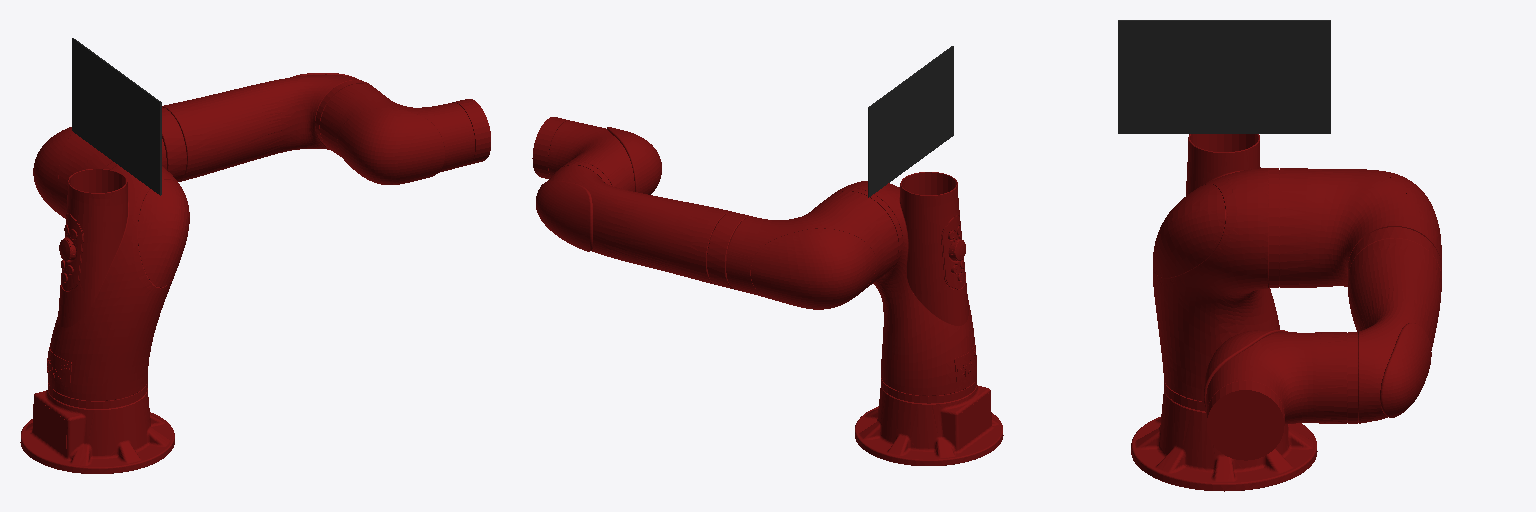
URDF robot description (sawyer):
<?xml version="1.0" ?>
<!-- =================================================================================== -->
<!-- |    This document was autogenerated by xacro from ./urdf.xacro                   | -->
<!-- |    EDITING THIS FILE BY HAND IS NOT RECOMMENDED                                 | -->
<!-- =================================================================================== -->
<robot name="sawyer" xmlns:xacro="http://www.ros.org/wiki/xacro">
  <material name="black">
    <color rgba="0 0 0 1"/>
  </material>
  <material name="darkgray">
    <color rgba=".2 .2 .2 1"/>
  </material>
  <material name="darkred">
    <color rgba=".5 .1 .1 1"/>
  </material>
  <material name="sawyer_red">
    <color rgba=".5 .1 .1 1"/>
  </material>
  <material name="sawyer_gray">
    <color rgba="0.75294 0.75294 0.75294 1"/>
  </material>
  <link name="base"/>
  <link name="torso">
    <visual>
      <origin rpy="0 0 0" xyz="0 0 0"/>
      <geometry>
        <box size="0 0 0"/>
      </geometry>
      <material name="darkgray">
        <color rgba=".2 .2 .2 1"/>
      </material>
    </visual>
    <inertial>
      <origin rpy="0 0 0" xyz="0.000000 0.000000 0.000000"/>
      <mass value="0.0001"/>
      <inertia ixx="1e-08" ixy="0" ixz="0" iyy="1e-08" iyz="0" izz="1e-08"/>
    </inertial>
  </link>
  <link name="pedestal">
    <visual>
      <origin rpy="1.57079632679 0 -1.57079632679" xyz="0.26 0.345 -0.91488"/>
      <geometry>
        <mesh filename="package://sawyer_description/meshes/sawyer_pv/pedestal.STL"/>
      </geometry>
      <material name="darkgray"/>
    </visual>
    <collision>
      <origin rpy="0 0 0" xyz="0 0 -0.30"/>
      <geometry>
        <cylinder length="0.62" radius="0.18"/>
      </geometry>
    </collision>
    <inertial>
      <origin rpy="0 0 0" xyz="0 0 0"/>
      <mass value="60.86397744"/>
      <inertia ixx="5.0635929" ixy="0.00103417" ixz="0.80199628" iyy="6.08689388" iyz="0.00105311" izz="4.96191932"/>
    </inertial>
  </link>
  <link name="controller_box">
    <collision>
      <origin rpy="0 0 0" xyz="-0.325 0 -0.38"/>
      <geometry>
        <box size="0.22 0.4 0.53"/>
      </geometry>
    </collision>
  </link>
  <joint name="controller_box_fixed" type="fixed">
    <origin rpy="0 0 0" xyz="0.0 0.0 0.0"/>
    <parent link="base"/>
    <child link="controller_box"/>
  </joint>
  <link name="pedestal_feet">
    <collision>
      <origin rpy="0 0 0" xyz="-0.1225 0 -0.758"/>
      <geometry>
        <box size="0.77 0.7 0.31"/>
      </geometry>
    </collision>
  </link>
  <joint name="pedestal_feet_fixed" type="fixed">
    <origin rpy="0 0 0" xyz="0.0 0.0 0.0"/>
    <parent link="base"/>
    <child link="pedestal_feet"/>
  </joint>
  <joint name="torso_t0" type="fixed">
    <origin rpy="0 0 0" xyz="0 0 0"/>
    <parent link="base"/>
    <child link="torso"/>
  </joint>
  <joint name="pedestal_fixed" type="fixed">
    <origin rpy="0 0 0" xyz="0.0 0.0 0.0"/>
    <parent link="base"/>
    <child link="pedestal"/>
  </joint>
  <joint name="right_arm_mount" type="fixed">
    <origin rpy="0 0 0" xyz="0.0 0.0 0.0"/>
    <parent link="base"/>
    <child link="right_arm_base_link"/>
  </joint>
  <link name="right_arm_base_link">
    <inertial>
      <origin rpy="0 0 0" xyz="-0.0006241 -2.8025E-05 0.065404"/>
      <mass value="2.0687"/>
      <inertia ixx="0.0067599" ixy="-4.2024E-05" ixz="-6.1904E-07" iyy="0.0067877" iyz="1.5888E-05" izz="0.0074031"/>
    </inertial>
    <visual>
      <origin rpy="0 0 0" xyz="0 0 0"/>
      <geometry>
        <mesh filename="package://sawyer_description/meshes/sawyer_pv/base.DAE"/>
      </geometry>
      <material name="sawyer_red"/>
    </visual>
    <collision>
      <origin rpy="0 0 0" xyz="0 0 0.12"/>
      <geometry>
        <cylinder length="0.24" radius="0.08"/>
      </geometry>
    </collision>
  </link>
  <link name="right_l0">
    <inertial>
      <origin rpy="0 0 0" xyz="0.024366 0.010969 0.14363"/>
      <mass value="5.3213"/>
      <inertia ixx="0.053314" ixy="0.0047093" ixz="0.011734" iyy="0.057902" iyz="0.0080179" izz="0.023659"/>
    </inertial>
    <visual>
      <origin rpy="0 0 0" xyz="0 0 0"/>
      <geometry>
        <mesh filename="package://sawyer_description/meshes/sawyer_mp3/l0.DAE"/>
      </geometry>
      <material name="sawyer_red"/>
    </visual>
    <collision>
      <origin rpy="0 0 0" xyz="0.081 0 0.237"/>
      <geometry>
        <sphere radius="0.07"/>
      </geometry>
    </collision>
  </link>
  <joint name="right_j0" type="revolute">
    <origin rpy="0 0 0" xyz="0 0 0.08"/>
    <parent link="right_arm_base_link"/>
    <child link="right_l0"/>
    <axis xyz="0 0 1"/>
    <limit effort="80.0" lower="-3.0503" upper="3.0503" velocity="1.74"/>
  </joint>
  <link name="head">
    <inertial>
      <origin rpy="0 0 0" xyz="0.0053207 -2.6549E-05 0.1021"/>
      <mass value="1.5795"/>
      <inertia ixx="0.011833" ixy="-4.4669E-06" ixz="4.9425E-05" iyy="0.0082709" iyz="4.2124E-07" izz="0.0049661"/>
    </inertial>
    <visual>
      <origin rpy="0 0 0" xyz="0 0 0"/>
      <geometry>
        <mesh filename="package://sawyer_description/meshes/sawyer_pv/head.STL"/>
      </geometry>
      <material name="sawyer_red"/>
    </visual>
    <collision>
      <origin rpy="0 0 0" xyz="0 0 0.08"/>
      <geometry>
        <sphere radius="0.18"/>
      </geometry>
    </collision>
  </link>
  <joint name="head_pan" type="revolute">
    <origin rpy="0 0 0" xyz="0 0 0.2965"/>
    <parent link="right_l0"/>
    <child link="head"/>
    <axis xyz="0 0 1"/>
    <limit effort="8" lower="-5.1477" upper="0.9559" velocity="1.8"/>
  </joint>
  <link name="right_torso_itb">
    <inertial>
      <origin rpy="0 0 0" xyz="0.000000 0.000000 0.000000"/>
      <mass value="0.0001"/>
      <inertia ixx="1e-08" ixy="0" ixz="0" iyy="1e-08" iyz="0" izz="1e-08"/>
    </inertial>
  </link>
  <joint name="right_torso_itb" type="fixed">
    <origin rpy="0 -1.57079632679 0" xyz="-.055 0 .22"/>
    <parent link="right_l0"/>
    <child link="right_torso_itb"/>
    <axis xyz="0 0 1"/>
  </joint>
  <link name="right_l1">
    <inertial>
      <origin rpy="0 0 0" xyz="-0.0030849 -0.026811 0.092521"/>
      <mass value="4.505"/>
      <inertia ixx="0.022398" ixy="-0.00023986" ixz="-0.00029362" iyy="0.014613" iyz="-0.0060875" izz="0.017295"/>
    </inertial>
    <visual>
      <origin rpy="0 0 0" xyz="0 0 0"/>
      <geometry>
        <mesh filename="package://sawyer_description/meshes/sawyer_mp3/l1.DAE"/>
      </geometry>
      <material name="sawyer_red"/>
    </visual>
    <collision>
      <origin rpy="0 0 0" xyz="0 0 0.1225"/>
      <geometry>
        <sphere radius="0.07"/>
      </geometry>
    </collision>
  </link>
  <joint name="right_j1" type="revolute">
    <origin rpy="-1.57079632679 1.57079632679 0" xyz="0.081 0.05 0.237"/>
    <parent link="right_l0"/>
    <child link="right_l1"/>
    <axis xyz="0 0 1"/>
    <limit effort="80.0" lower="-3.8183" upper="2.2824" velocity="1.328"/>
  </joint>
  <link name="right_l2">
    <inertial>
      <origin rpy="0 0 0" xyz="-0.00016232 -0.015346 0.13445"/>
      <mass value="1.7251"/>
      <inertia ixx="0.025176" ixy="4.3031E-06" ixz="1.4564E-05" iyy="0.024982" iyz="-0.0033928" izz="0.0033798"/>
    </inertial>
    <visual>
      <origin rpy="0 0 0" xyz="0 0 0"/>
      <geometry>
        <mesh filename="package://sawyer_description/meshes/sawyer_pv/l2.DAE"/>
      </geometry>
      <material name="sawyer_red"/>
    </visual>
    <collision>
      <origin rpy="0 0 0" xyz="0 0 0.14"/>
      <geometry>
        <cylinder length="0.35" radius="0.06"/>
      </geometry>
    </collision>
  </link>
  <joint name="right_j2" type="revolute">
    <origin rpy="1.57079632679 0 0" xyz="0 -0.14 0.1425"/>
    <parent link="right_l1"/>
    <child link="right_l2"/>
    <axis xyz="0 0 1"/>
    <limit effort="40.0" lower="-3.0514" upper="3.0514" velocity="1.957"/>
  </joint>
  <link name="right_l3">
    <inertial>
      <origin rpy="0 0 0" xyz="-0.0046678 -0.028394 -0.083127"/>
      <mass value="2.4743"/>
      <inertia ixx="0.0099549" ixy="-1.7675E-05" ixz="0.00027521" iyy="0.0064248" iyz="0.0030853" izz="0.0067746"/>
    </inertial>
    <visual>
      <origin rpy="0 0 0" xyz="0 0 0"/>
      <geometry>
        <mesh filename="package://sawyer_description/meshes/sawyer_pv/l3.DAE"/>
      </geometry>
      <material name="sawyer_red"/>
    </visual>
    <collision>
      <origin rpy="0 0 0" xyz="0 -0.01 -0.12"/>
      <geometry>
        <sphere radius="0.06"/>
      </geometry>
    </collision>
  </link>
  <joint name="right_j3" type="revolute">
    <origin rpy="-1.57079632679 0 0" xyz="0 -0.042 0.26"/>
    <parent link="right_l2"/>
    <child link="right_l3"/>
    <axis xyz="0 0 1"/>
    <limit effort="40.0" lower="-3.0514" upper="3.0514" velocity="1.957"/>
  </joint>
  <link name="right_l4">
    <inertial>
      <origin rpy="0 0 0" xyz="-0.0027794 0.0076558 0.13273"/>
      <mass value="1.0433"/>
      <inertia ixx="0.012913" ixy="2.573E-05" ixz="0.00017705" iyy="0.012939" iyz="0.0011152" izz="0.0012405"/>
    </inertial>
    <visual>
      <origin rpy="0 0 0" xyz="0 0 0"/>
      <geometry>
        <mesh filename="package://sawyer_description/meshes/sawyer_pv/l4.DAE"/>
      </geometry>
      <material name="sawyer_red"/>
    </visual>
    <collision>
      <origin rpy="0 0 0" xyz="0 0 0.14"/>
      <geometry>
        <cylinder length="0.36" radius="0.045"/>
      </geometry>
    </collision>
  </link>
  <joint name="right_j4" type="revolute">
    <origin rpy="1.57079632679 0 0" xyz="0 -0.125 -0.1265"/>
    <parent link="right_l3"/>
    <child link="right_l4"/>
    <axis xyz="0 0 1"/>
    <limit effort="9.0" lower="-2.9842" upper="2.9842" velocity="3.485"/>
  </joint>
  <link name="right_arm_itb">
    <inertial>
      <origin rpy="0 0 0" xyz="0.000000 0.000000 0.000000"/>
      <mass value="0.0001"/>
      <inertia ixx="1e-08" ixy="0" ixz="0" iyy="1e-08" iyz="0" izz="1e-08"/>
    </inertial>
  </link>
  <joint name="right_arm_itb" type="fixed">
    <origin rpy="0 -1.57079632679 0" xyz="-.055 0 .075"/>
    <parent link="right_l4"/>
    <child link="right_arm_itb"/>
    <axis xyz="0 0 1"/>
  </joint>
  <link name="right_l5">
    <inertial>
      <origin rpy="0 0 0" xyz="0.0062067 -0.024291 0.075564"/>
      <mass value="1.5343"/>
      <inertia ixx="0.0046072" ixy="0.00012002" ixz="5.3065E-05" iyy="0.0028725" iyz="-0.0011886" izz="0.003101"/>
    </inertial>
    <visual>
      <origin rpy="0 0 0" xyz="0 0 0"/>
      <geometry>
        <mesh filename="package://sawyer_description/meshes/sawyer_pv/l5.STL"/>
      </geometry>
      <material name="sawyer_red"/>
    </visual>
    <collision>
      <origin rpy="0 0 0" xyz="0.01 0 0.09"/>
      <geometry>
        <sphere radius="0.06"/>
      </geometry>
    </collision>
  </link>
  <joint name="right_j5" type="revolute">
    <origin rpy="-1.57079632679 0 0" xyz="0 0.031 0.275"/>
    <parent link="right_l4"/>
    <child link="right_l5"/>
    <axis xyz="0 0 1"/>
    <limit effort="9.0" lower="-2.9842" upper="2.9842" velocity="3.485"/>
  </joint>
  <link name="right_hand_camera"/>
  <joint name="right_hand_camera" type="fixed">
    <origin rpy="0 1.57079632679 0" xyz="0.039552 -0.033 0.0695"/>
    <parent link="right_l5"/>
    <child link="right_hand_camera"/>
    <axis xyz="0 0 0"/>
  </joint>
  <link name="right_wrist"/>
  <joint name="right_wrist" type="fixed">
    <origin rpy="1.57079632679 0 0" xyz="0 0 0.10541"/>
    <parent link="right_l5"/>
    <child link="right_wrist"/>
    <axis xyz="0 0 0"/>
  </joint>
  <link name="right_l6">
    <inertial>
      <origin rpy="0 0 0" xyz="-8.0726E-06 0.0085838 -0.0049566"/>
      <mass value="0.3292"/>
      <inertia ixx="0.00031105" ixy="1.4771E-06" ixz="-3.7074E-07" iyy="0.00021549" iyz="-8.4533E-06" izz="0.00035976"/>
    </inertial>
    <visual>
      <origin rpy="0 0 0" xyz="0 0 0"/>
      <geometry>
        <mesh filename="package://sawyer_description/meshes/sawyer_mp1/l6.STL"/>
      </geometry>
      <material name="sawyer_red"/>
    </visual>
    <collision>
      <origin rpy="0 0 0" xyz="0 0 -0.005"/>
      <geometry>
        <cylinder length="0.05" radius="0.065"/>
      </geometry>
    </collision>
  </link>
  <joint name="right_j6" type="revolute">
    <origin rpy="-1.57079632679 -0.17453 3.1416" xyz="0 -0.11 0.1053"/>
    <parent link="right_l5"/>
    <child link="right_l6"/>
    <axis xyz="0 0 1"/>
    <limit effort="9.0" lower="-4.7104" upper="4.7104" velocity="4.545"/>
  </joint>
  <!-- <link name="right_hand">
    <collision>
      <origin rpy="0 0 0" xyz="0 0 0.0"/>
      <geometry>
        <cylinder length="0.0" radius="0.0"/>
      </geometry>
    </collision>
    <inertial>
      <origin rpy="0 0 0" xyz="1.0E-08 1.0E-08 1.0E-08"/>
      <mass value="1.0E-08"/>
      <inertia ixx="1.0E-08" ixy="1.0E-08" ixz="1.0E-08" iyy="1.0E-08" iyz="1.0E-08" izz="1.0E-08"/>
    </inertial>
  </link>
  <joint name="right_hand" type="fixed">
    <origin rpy="0 0 1.570796" xyz="0 0 0.0245"/>
    <axis xyz="0 0 1"/>
    <parent link="right_l6"/>
    <child link="right_hand"/>
  </joint> -->
  <link name="screen">
    <visual>
      <origin rpy="0 0 0" xyz="0 0 0"/>
      <geometry>
        <box size="0.24 0.14 0.002"/>
      </geometry>
      <material name="darkgray"/>
    </visual>
    <collision>
      <origin rpy="0 0 0" xyz="0 0 0"/>
      <geometry>
        <sphere radius="0.001"/>
      </geometry>
    </collision>
    <inertial>
      <origin rpy="0 0 0" xyz="0 0 0"/>
      <mass value="0.0001"/>
      <inertia ixx="1e-08" ixy="0" ixz="0" iyy="1e-08" iyz="0" izz="1e-08"/>
    </inertial>
  </link>
  <joint name="display_joint" type="fixed">
    <origin rpy="1.57079632679 0 1.57079632679" xyz="0.03 0.0 0.105"/>
    <parent link="head"/>
    <child link="screen"/>
  </joint>
  <link name="head_camera"/>
    <joint name="head_camera" type="fixed">
      <origin rpy="-2.1293 0 -1.57079632679" xyz="0.0228027 0 0.216572"/>
      <parent link="head"/>
      <child link="head_camera"/>
      <axis xyz="0 0 0"/>
    </joint>
</robot>

--- What the picture shows (computed from the rendered views, not written in the file) ---
3 views of the same robot in one strip: view 1: azimuth 30°, elevation 25°; view 2: azimuth 150°, elevation 25°; view 3: azimuth 270°, elevation 25° (orthographic).
Robot: sawyer — 20 links, 19 joints (8 revolute, 11 fixed); root link base; default pose: all joints at 0.
Visible links, largest first — view 1: right_l0, right_l3, right_l2, right_arm_base_link, screen, right_l1; view 2: right_l0, right_l1, right_l2, right_arm_base_link, screen, right_l3; view 3: screen, right_l0, right_l3, right_l1, right_l2, right_arm_base_link.
Boxes of the visible links, <box> form: right_l0: <box>47,165,189,408</box>; right_l3: <box>315,80,490,184</box>; right_l2: <box>162,73,361,181</box>; right_arm_base_link: <box>20,388,174,473</box>; screen: <box>72,38,161,195</box>; right_l1: <box>33,107,186,218</box>; right_l0: <box>838,172,976,403</box>; right_l1: <box>707,188,902,309</box>; right_l2: <box>536,165,731,284</box>; right_arm_base_link: <box>855,385,1003,465</box>; screen: <box>868,46,953,197</box>; right_l3: <box>532,117,661,194</box>; screen: <box>1118,20,1330,133</box>; right_l0: <box>1153,134,1279,411</box>; right_l3: <box>1204,330,1357,460</box>; right_l1: <box>1269,168,1441,287</box>; right_l2: <box>1348,238,1441,423</box>; right_arm_base_link: <box>1131,390,1317,491</box>.
Size in the robot's own frame: 0.7127 by 0.3658 by 0.5515 metres.
Meshes: 10 distinct files referenced, 5 mesh visuals loaded (5 Collada DAE); not drawn: 5 (reference not matched to a file when rendering).